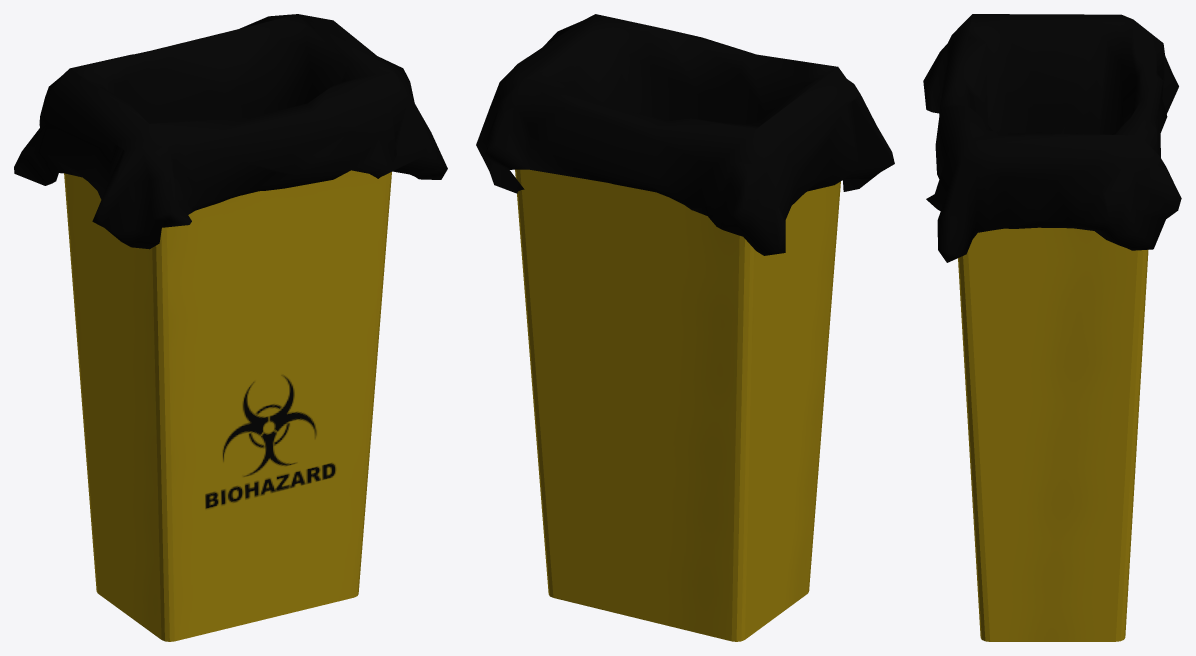
File: bin_yellow.fbx
3 renders of one model, left to right at view 1: azimuth 30°, elevation 25°; view 2: azimuth 150°, elevation 25°; view 3: azimuth 270°, elevation 25°, orthographic.
Visible parts, largest first — view 1: bin_yellow; view 2: bin_yellow; view 3: bin_yellow.
Boxes of the visible parts, left/top/right/bottom form: bin_yellow: left=14, top=14, right=447, bottom=641; bin_yellow: left=476, top=14, right=894, bottom=641; bin_yellow: left=923, top=14, right=1181, bottom=641.
Size of the model in its own units: 28.28 by 41.89 by 18.76.
1 material, 1 textured.
